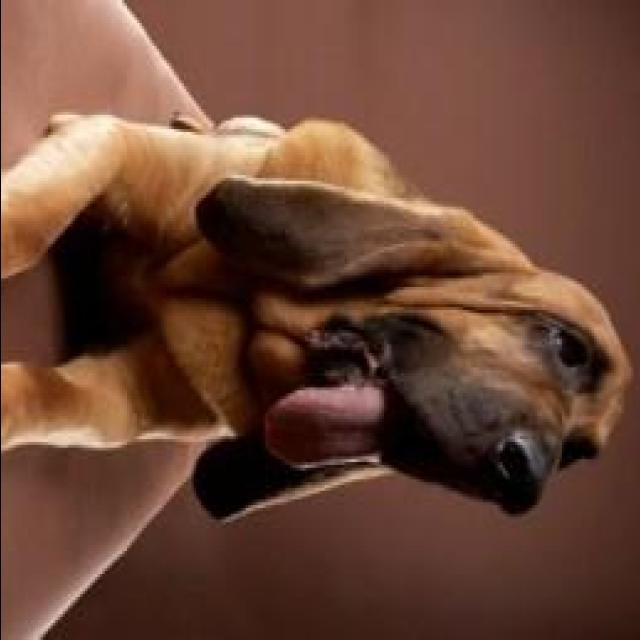bloodhound: (3, 100, 635, 522)
